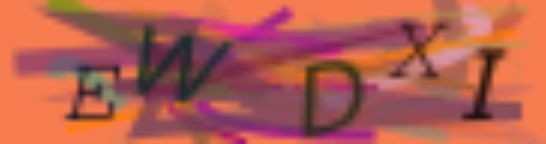D: (300, 60, 364, 139)
E: (61, 61, 125, 125)
I: (457, 42, 512, 126)
W: (131, 21, 234, 103)
X: (387, 20, 451, 80)
